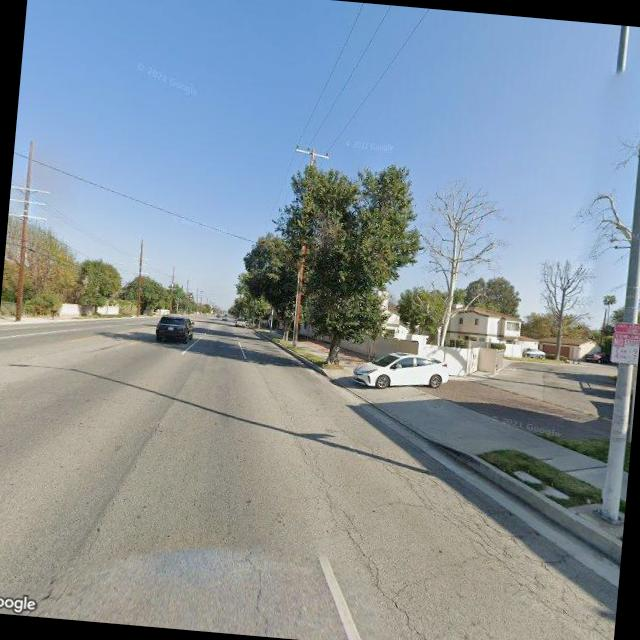crack: (381, 448, 614, 622)
pothole: (274, 432, 448, 640)
